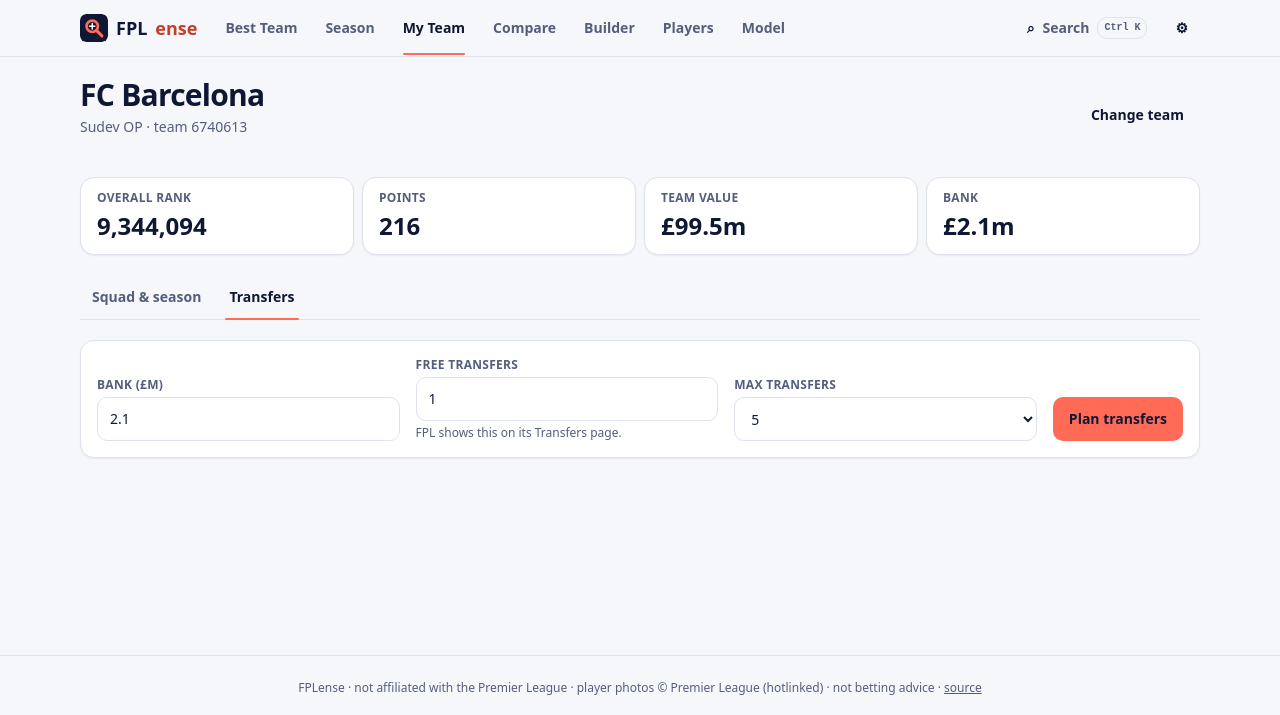
Test: Transfers › lists the path to the best team in order
The width and height of the screenshot is (1280, 715).
Click the button "Plan transfers": click(1118, 419) [1053,397,1183,441]
(page scrolled)
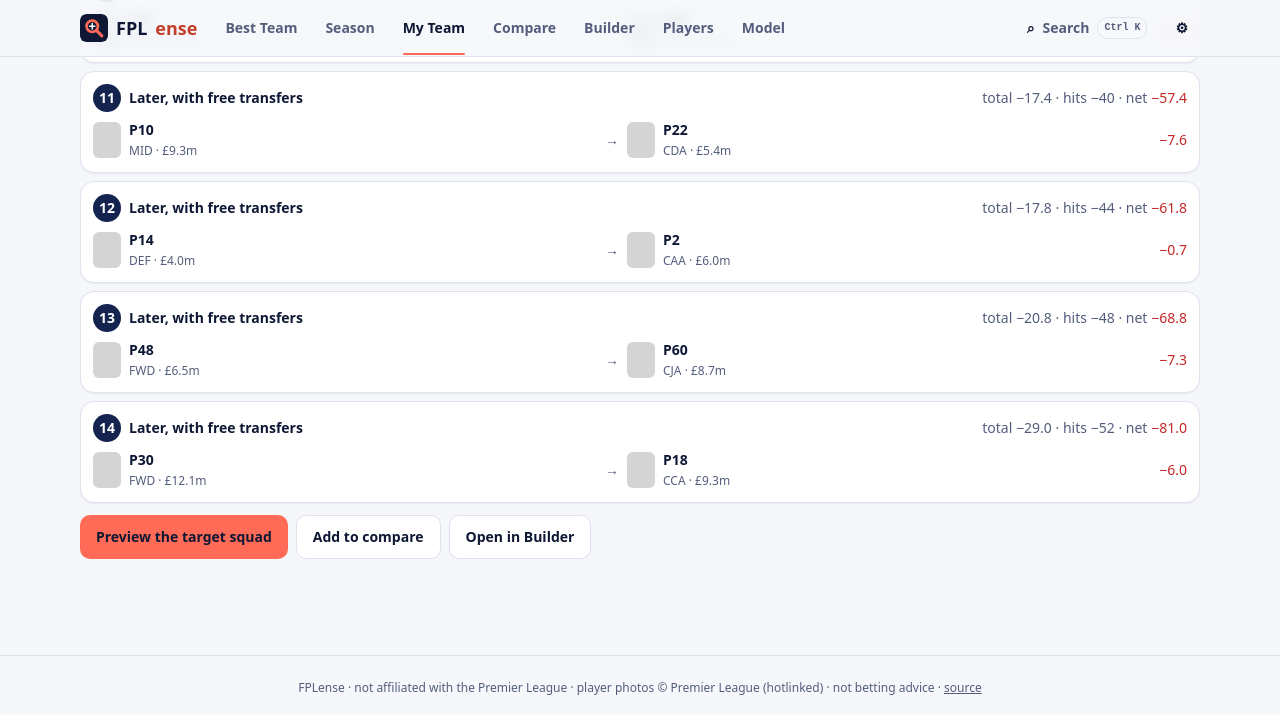
Expected: the text "11" is shown, [93,84,121,112]
Expected: the list item with test id "path-step" shows "P10", [129,120,154,139]
Expected: the list item with test id "path-step" shows "P22", [663,120,688,139]
Click the button "Preview the target squad": click(184, 537) [80,515,288,559]
(page scrolled)
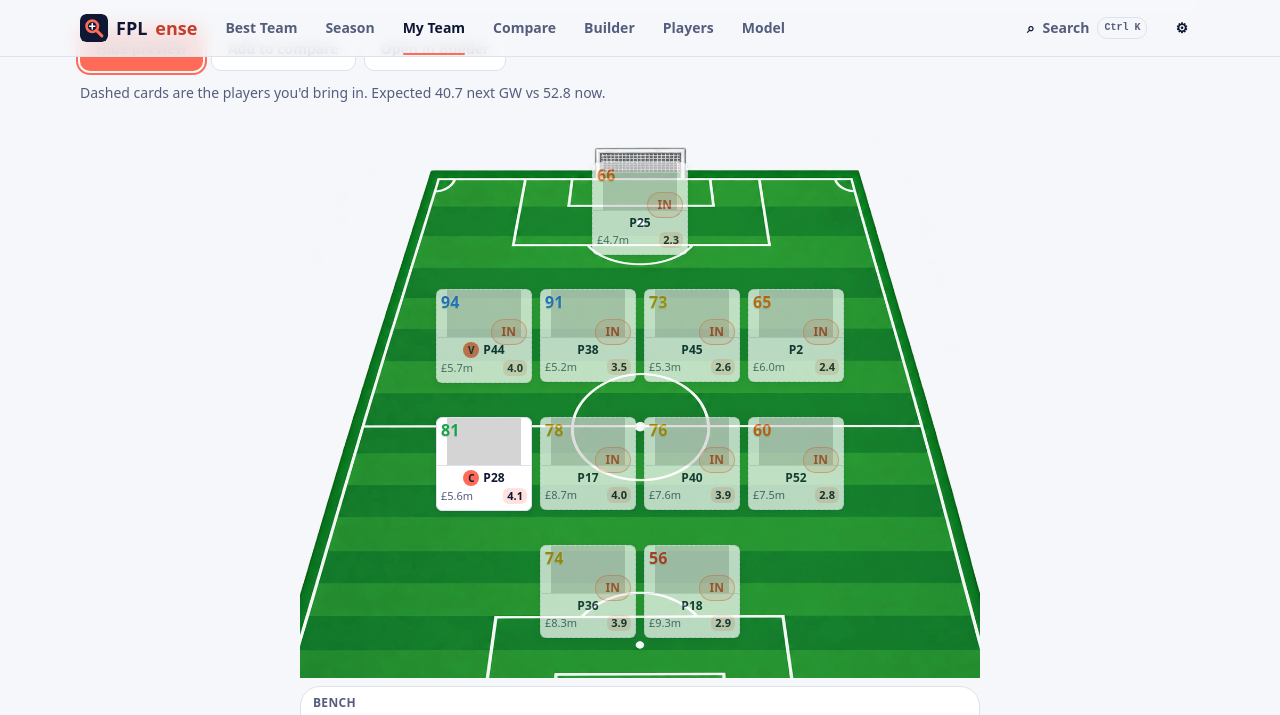
Expected: the element named "Squad after the plan" is shown, [300,115,980,678]
